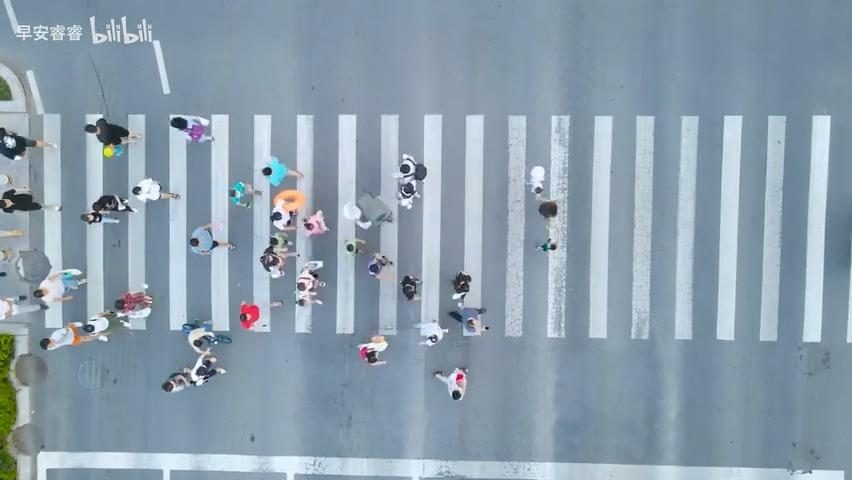Civilian: (161, 349, 226, 393), (347, 181, 397, 232), (83, 117, 141, 157), (39, 320, 111, 350), (392, 152, 427, 209), (32, 268, 87, 304), (0, 126, 57, 160), (80, 194, 136, 224), (188, 221, 236, 256), (0, 186, 62, 213), (294, 259, 337, 297), (249, 252, 292, 286), (261, 155, 303, 187), (131, 177, 180, 203), (449, 305, 489, 336), (170, 115, 214, 143), (433, 366, 468, 400), (182, 319, 215, 354), (264, 222, 299, 254), (114, 290, 153, 318), (412, 318, 449, 347), (356, 334, 388, 365), (229, 180, 262, 209), (91, 194, 136, 212), (302, 209, 330, 235), (450, 270, 471, 304), (294, 290, 316, 322), (367, 252, 393, 278), (524, 165, 545, 194), (399, 274, 421, 301), (239, 301, 260, 329), (80, 211, 119, 224), (343, 237, 366, 254), (537, 200, 557, 219), (535, 237, 556, 252), (0, 228, 23, 238), (0, 173, 14, 185)
